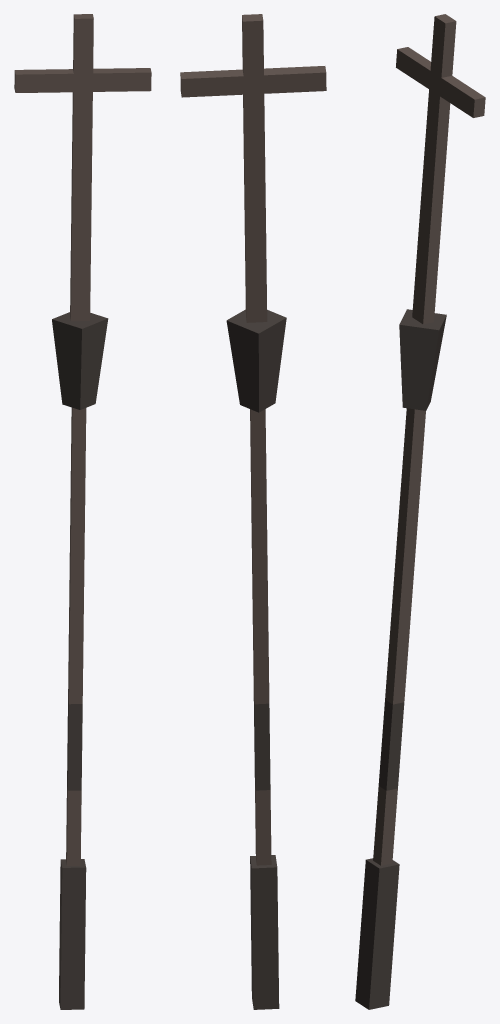
File: CrossPole.glb
The picture shows the model from 3 angles, left to right: view 1: azimuth 30°, elevation 25°; view 2: azimuth 210°, elevation 25°; view 3: azimuth 330°, elevation 25°; orthographic projection. The views are drawn at different scales.
Visible parts, largest first — view 1: CrossPole; view 2: CrossPole; view 3: CrossPole.
Part boxes in pixels (bbox=[...]): CrossPole: bbox=[14, 14, 151, 1009]; CrossPole: bbox=[180, 14, 326, 1009]; CrossPole: bbox=[355, 14, 485, 1009].
Bounding box in the file's own units: 1.84 × 15.09 × 1.55.
Materials: 1 (1 with a texture image).
